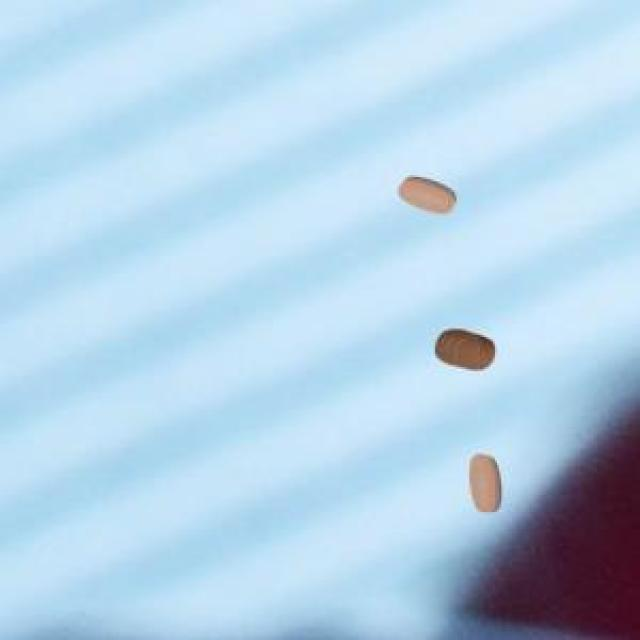Biogesic: (454, 435, 522, 527), (383, 154, 468, 224), (428, 324, 509, 385)
